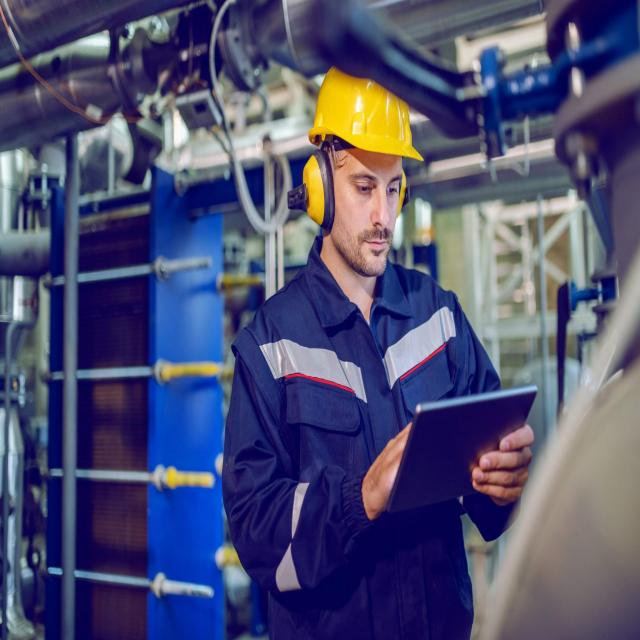Safety-Helmet: (304, 64, 425, 166)
